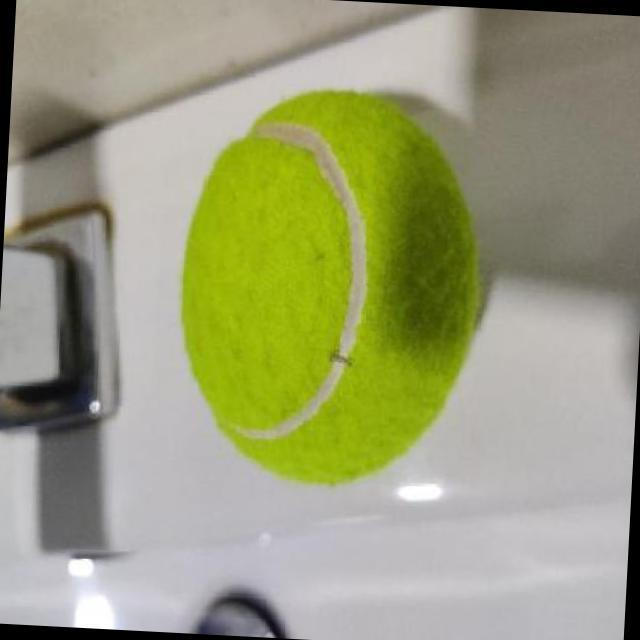-: (154, 55, 514, 520)
